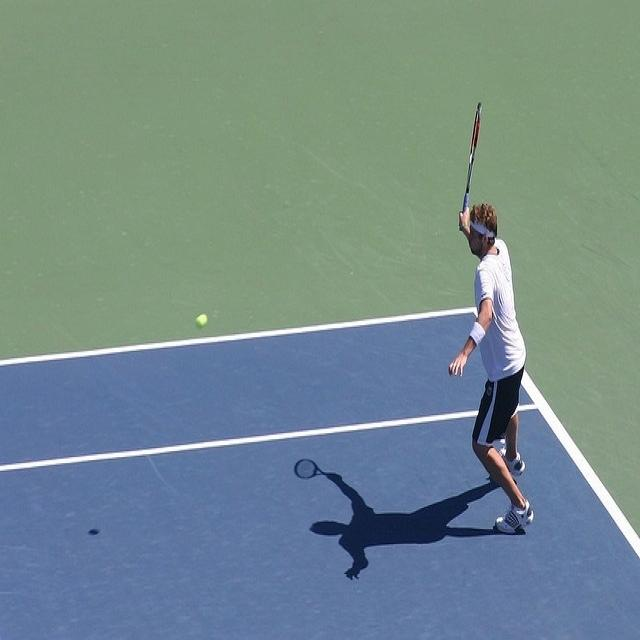ball: (192, 308, 213, 332)
